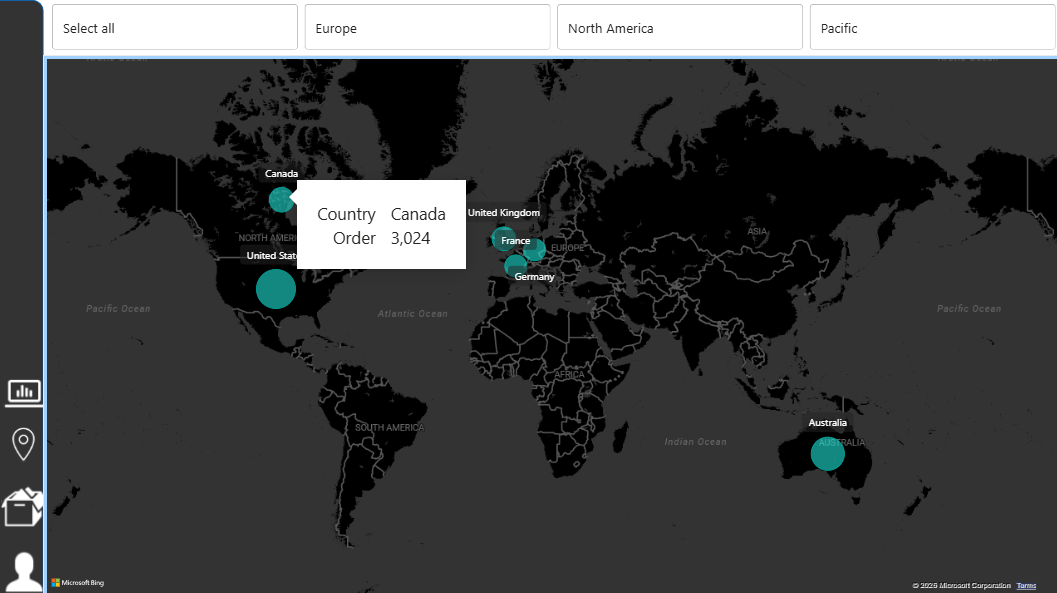

This screenshot's page, from the dashboard's own definition file:
{"tool":"powerbi","page":{"name":"Map","canvas":[1280,720],"ordinal":1},"visuals":[{"type":"group","id":"g1","title":"Close Nav","box":[0,0,64.5,720.4],"z":0},{"type":"shape","box":[0,0,54.9,720.4],"z":0,"group":"g1"},{"type":"map","fields":{"Category":["Territory Lookup.Country"],"Size":["ALL Measures.Total Order"]},"box":[54.9,65.9,1225.4,654.5],"z":1000},{"type":"advancedSlicerVisual","fields":{"Values":["Territory Lookup.Continent"]},"box":[60.4,0,1219.9,65.9],"z":2000},{"type":"actionButton","box":[2.5,443.2,57.6,57.6],"z":3000,"group":"g1"},{"type":"actionButton","box":[6.6,510.5,49.4,49.4],"z":4000,"group":"g1"},{"type":"actionButton","box":[0,657.3,64.5,63.1],"z":5000,"group":"g1"},{"type":"actionButton","box":[0,580.4,64.5,63.1],"z":6000,"group":"g1"}]}

Visuals, with their boxes on the page's 1280x720 design canvas (x1, y1, x2, y2). These are canvas units, not pixel positions in the 1057x593 screenshot, which may show the page scaled, cropped or inside an application window:
"Close Nav" group: 0,0,64,720
shape: 0,0,55,720
map - Territory Lookup.Country x ALL Measures.Total Order: 55,66,1280,720
advancedSlicerVisual - Territory Lookup.Continent: 60,0,1280,66
actionButton: 2,443,60,501
actionButton: 7,510,56,560
actionButton: 0,657,64,720
actionButton: 0,580,64,644
